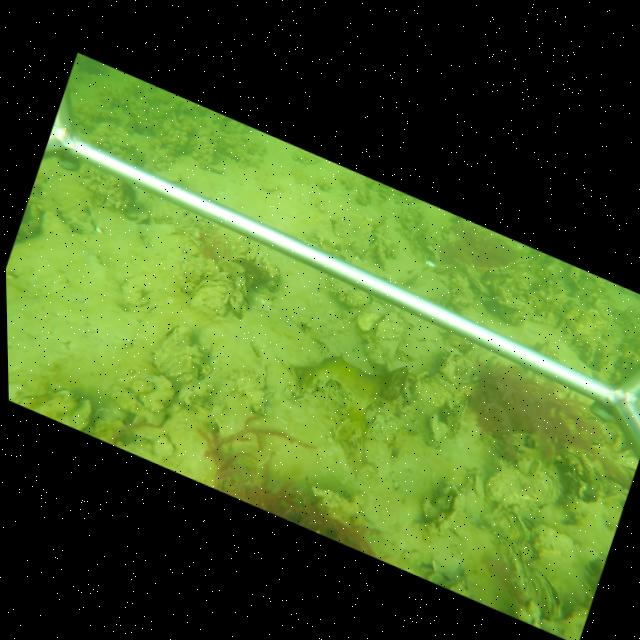Oyster-Closed: (257, 310, 325, 369), (410, 373, 459, 407), (324, 275, 369, 308), (373, 312, 408, 351), (354, 300, 387, 334), (383, 365, 405, 399), (449, 399, 468, 438), (427, 413, 445, 442), (438, 351, 455, 375), (470, 471, 484, 497), (364, 413, 378, 438), (466, 275, 484, 293), (494, 300, 526, 310)
Oyster-Indeterminate: (483, 461, 560, 512), (150, 323, 200, 382), (188, 271, 235, 318)
Oyster-Open: (421, 489, 465, 537), (528, 566, 562, 619)
